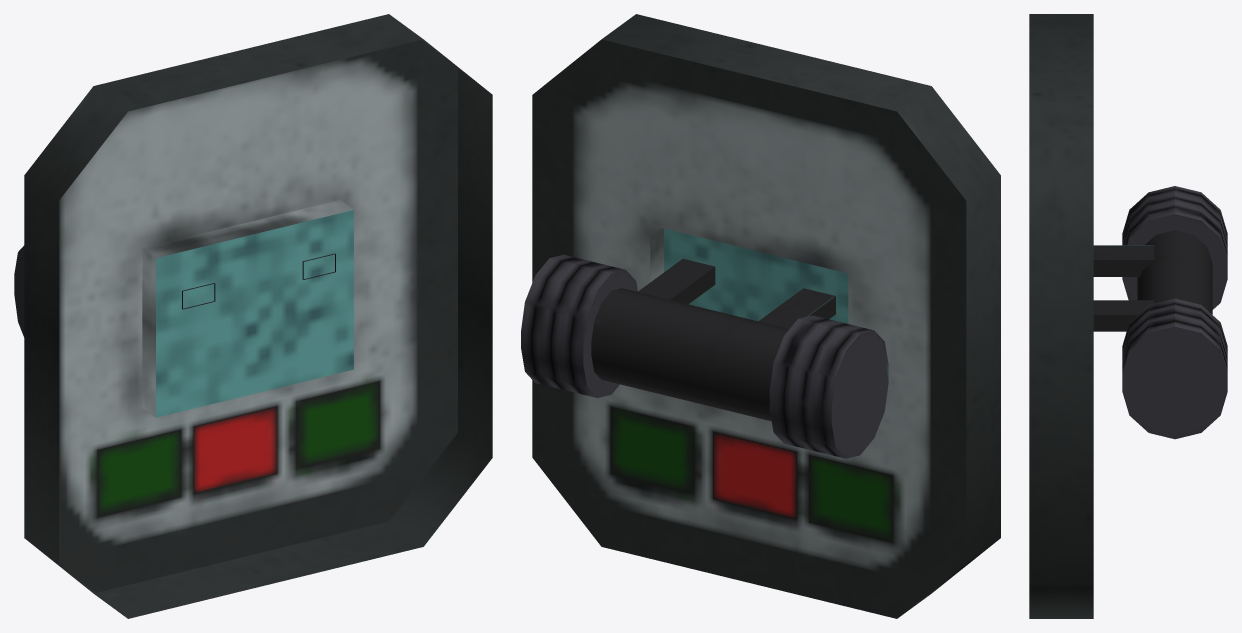
Rendered from doorlock.fbx.
3 views of the same model, side by side, from view 1: azimuth 30°, elevation 25°; view 2: azimuth 150°, elevation 25°; view 3: azimuth 270°, elevation 25° (orthographic). The views are drawn at different scales.
Visible parts, largest first — view 1: Lock, LockLever; view 2: Lock, LockLever, LockLeverHandle, LockLeverHandle.001; view 3: Lock, LockLever, LockLeverHandle.001, LockLeverHandle.
Part boxes in pixels (<box>): Lock: <box>24,14,492,618</box>; LockLever: <box>14,245,24,337</box>; Lock: <box>532,14,1000,618</box>; LockLever: <box>521,254,888,458</box>; LockLeverHandle: <box>638,259,715,304</box>; LockLeverHandle.001: <box>758,288,835,328</box>; Lock: <box>1029,14,1093,618</box>; LockLever: <box>1122,186,1227,439</box>; LockLeverHandle.001: <box>1093,245,1154,276</box>; LockLeverHandle: <box>1093,300,1154,331</box>.
Bounding box in the file's own units: 0.2 × 0.0854 × 0.2236.
Materials: 1 (1 with a texture image).
